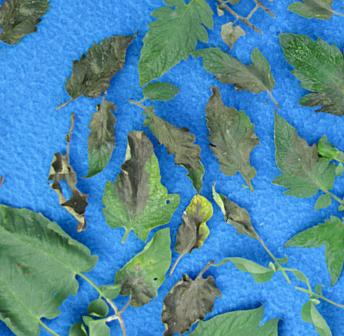Tomato leaf late blight: (65, 120, 203, 258), (0, 159, 116, 312), (104, 0, 226, 112), (177, 87, 291, 197), (239, 109, 344, 220), (121, 96, 232, 200), (241, 24, 344, 135), (185, 23, 292, 123), (48, 91, 145, 194), (101, 220, 197, 320), (283, 196, 344, 267)
